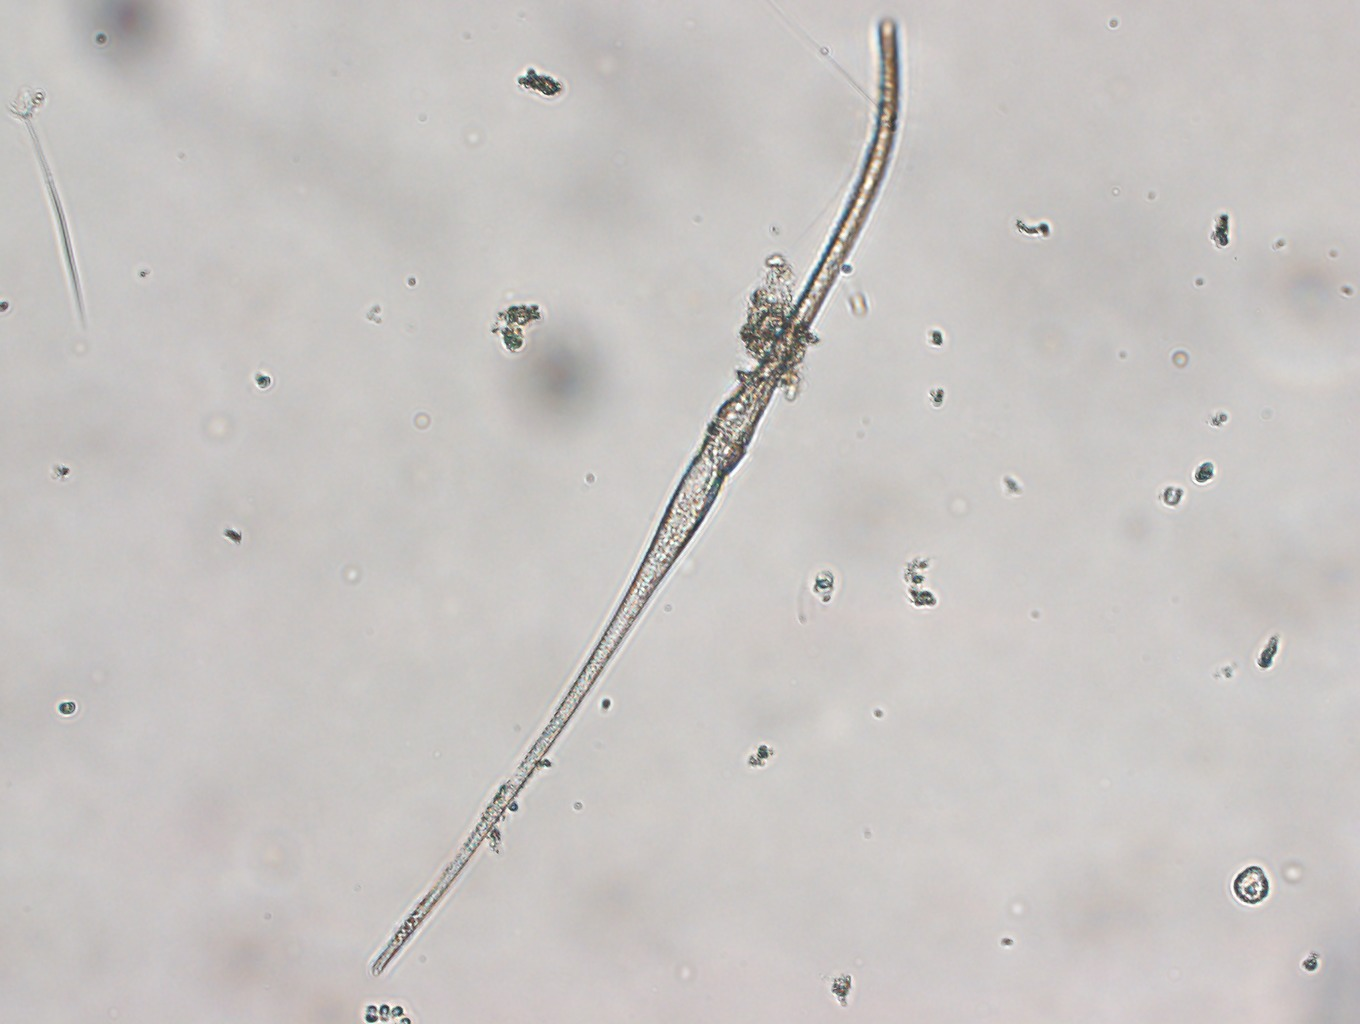ceratium fusus: (353, 10, 916, 981)
